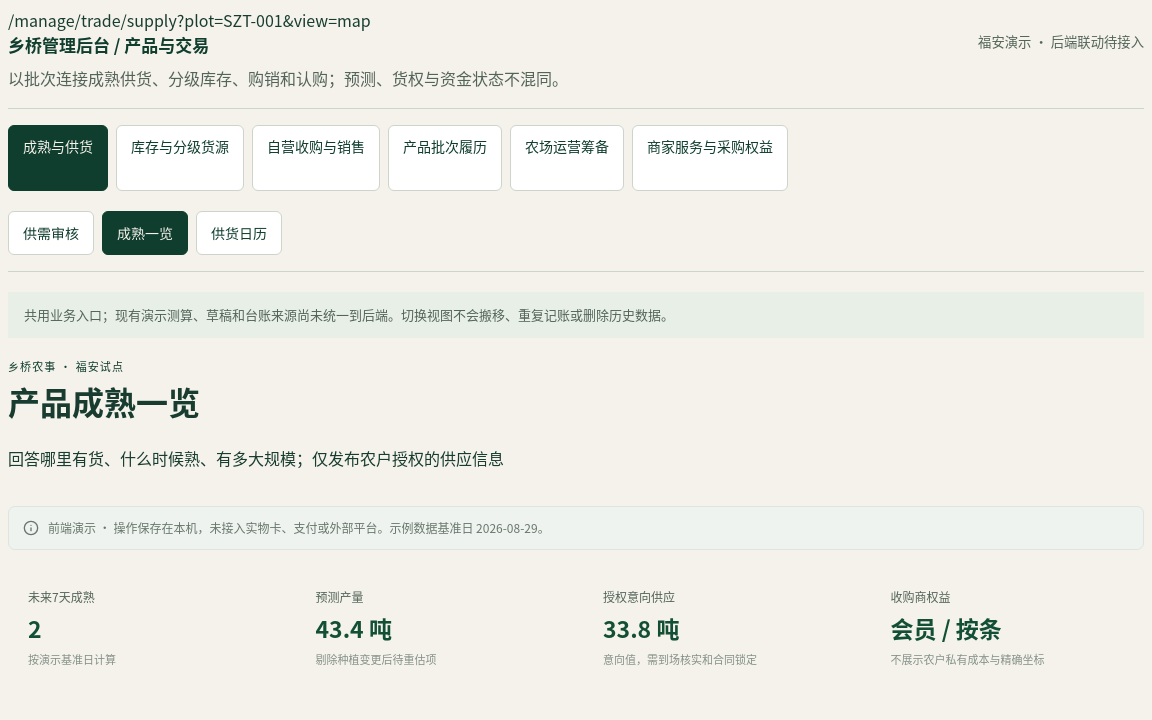
旧成熟链接保留地块筛选并落在对应视图
expect the text named "页面地址" reads "/manage/trade/supply?plot=SZT-001&view=map": met, box 8,8 -> 371,32
Click the button "供货日历" at (239, 233), box 196,211 -> 282,255
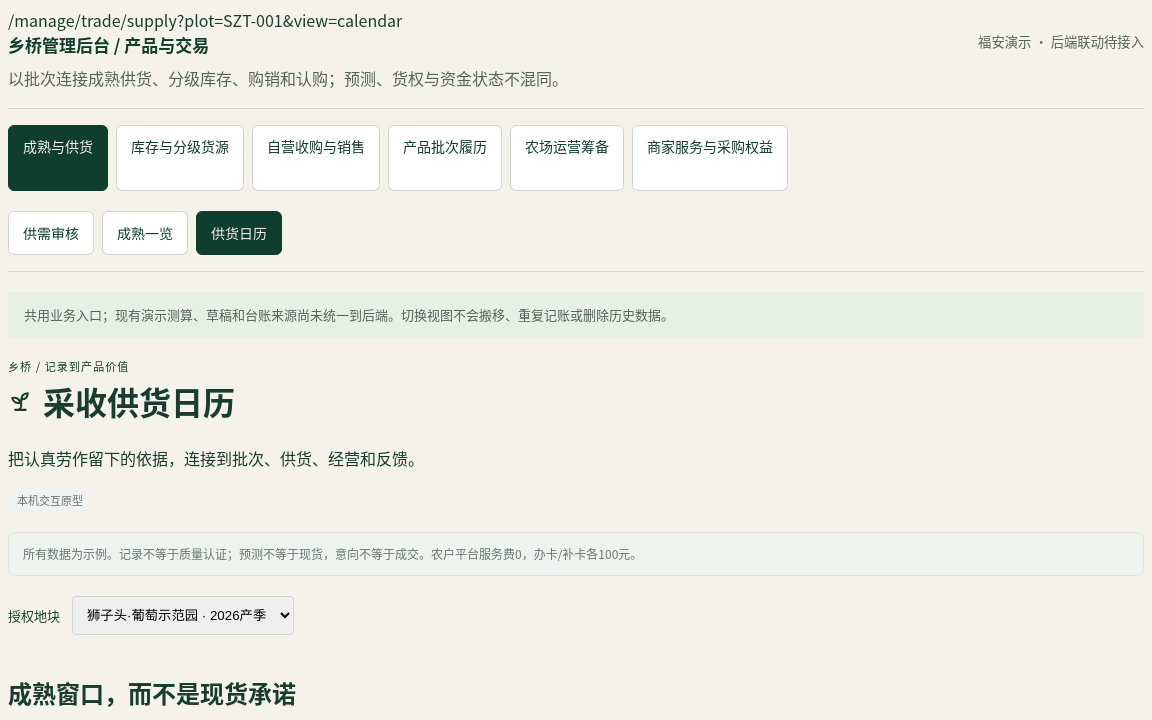
expect the heading "采收供货日历" is shown: met, box 8,378 -> 235,424
expect the text named "页面地址" shows "plot=SZT-001&view=calendar": met, box 8,8 -> 402,32
